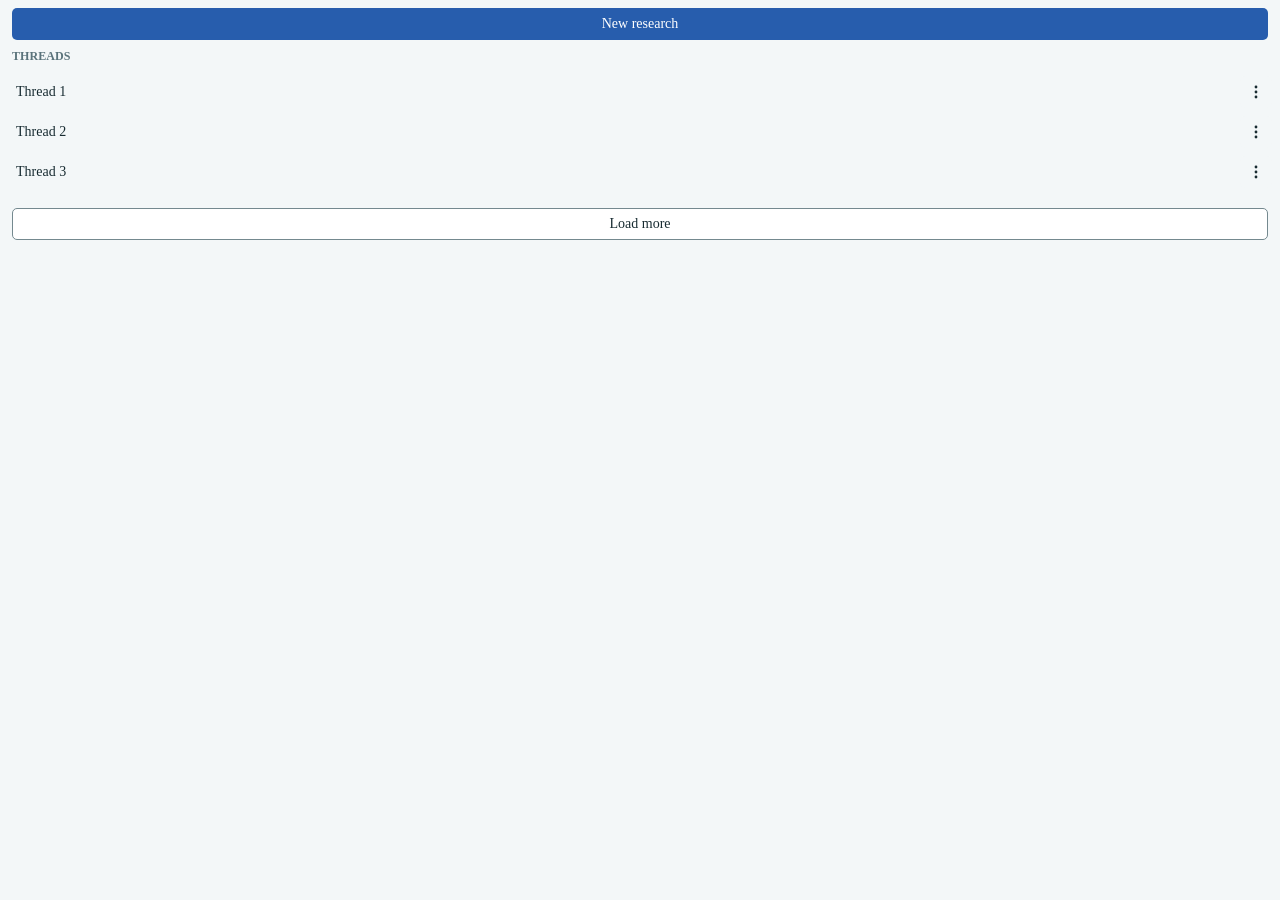
Test: criterion 3 — deletion, end to end › cancelling sends nothing
Expected: the link "Thread 1" is shown, [16, 84, 66, 99]
Click the button named "Thread actions: Thread 2": (1256, 132) [1240, 116, 1272, 148]
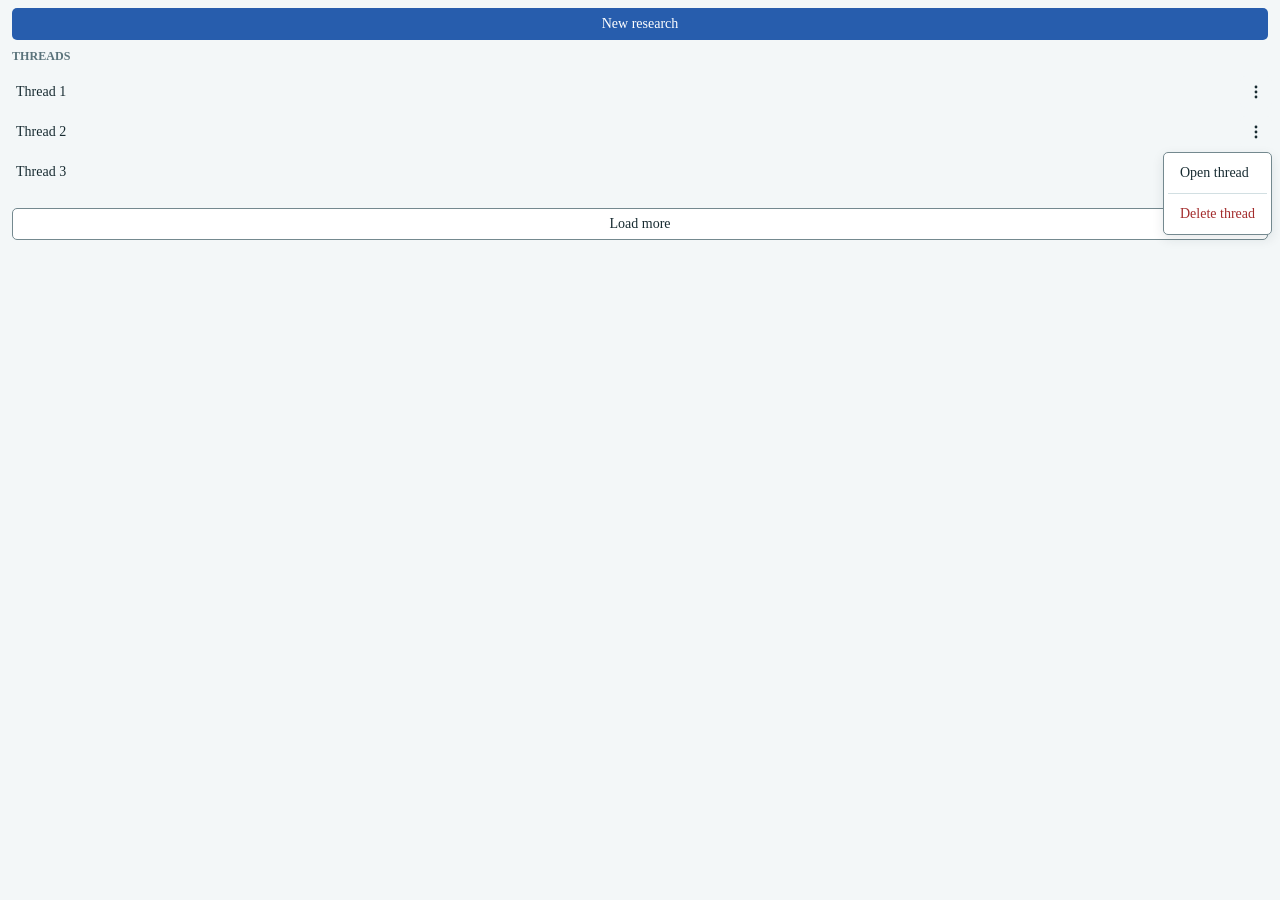
Click the menu item "Delete thread": (1218, 214) [1180, 206, 1255, 221]
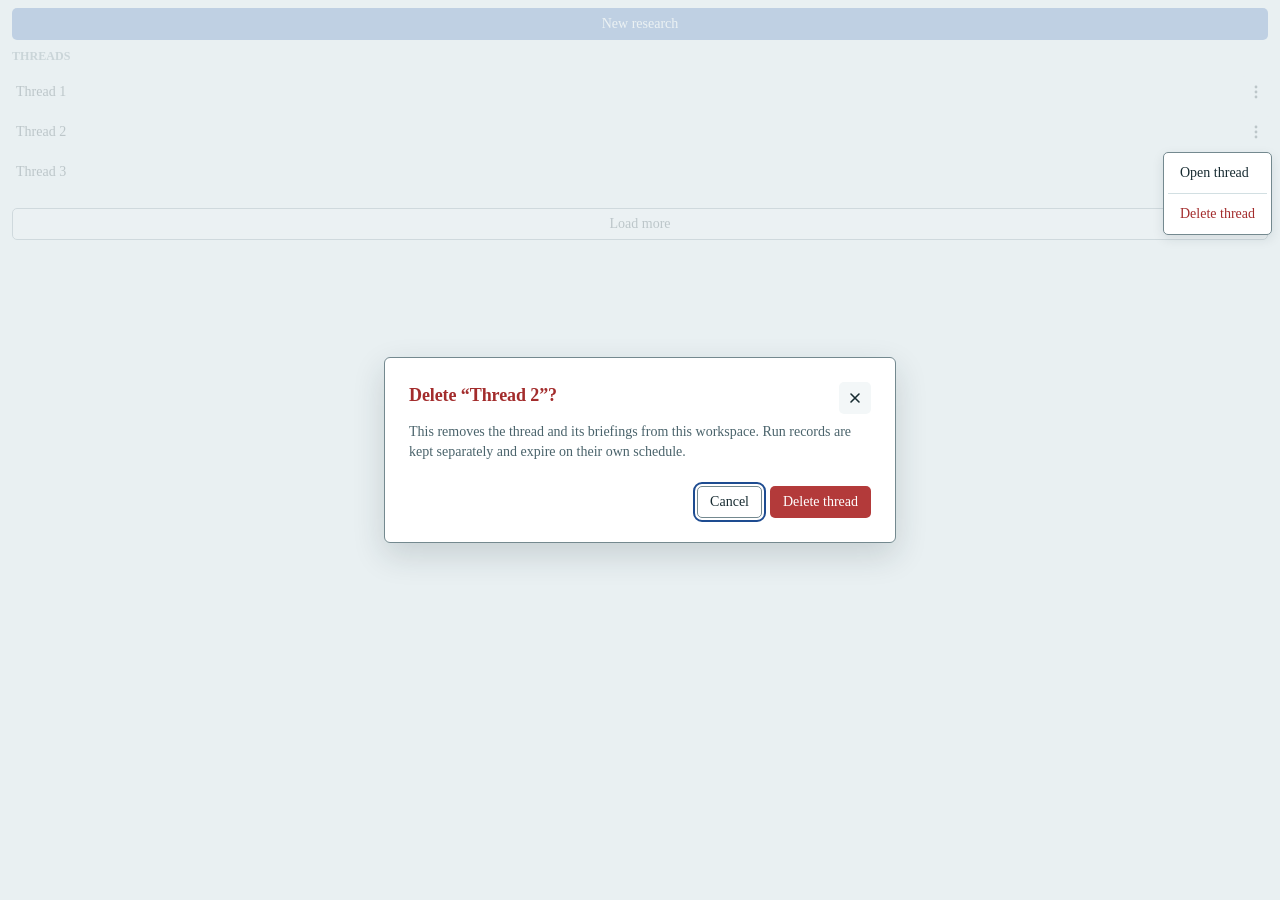
Expected: the dialog is shown, [384, 357, 896, 543]
Click the button "Cancel": (730, 502) [697, 486, 762, 518]
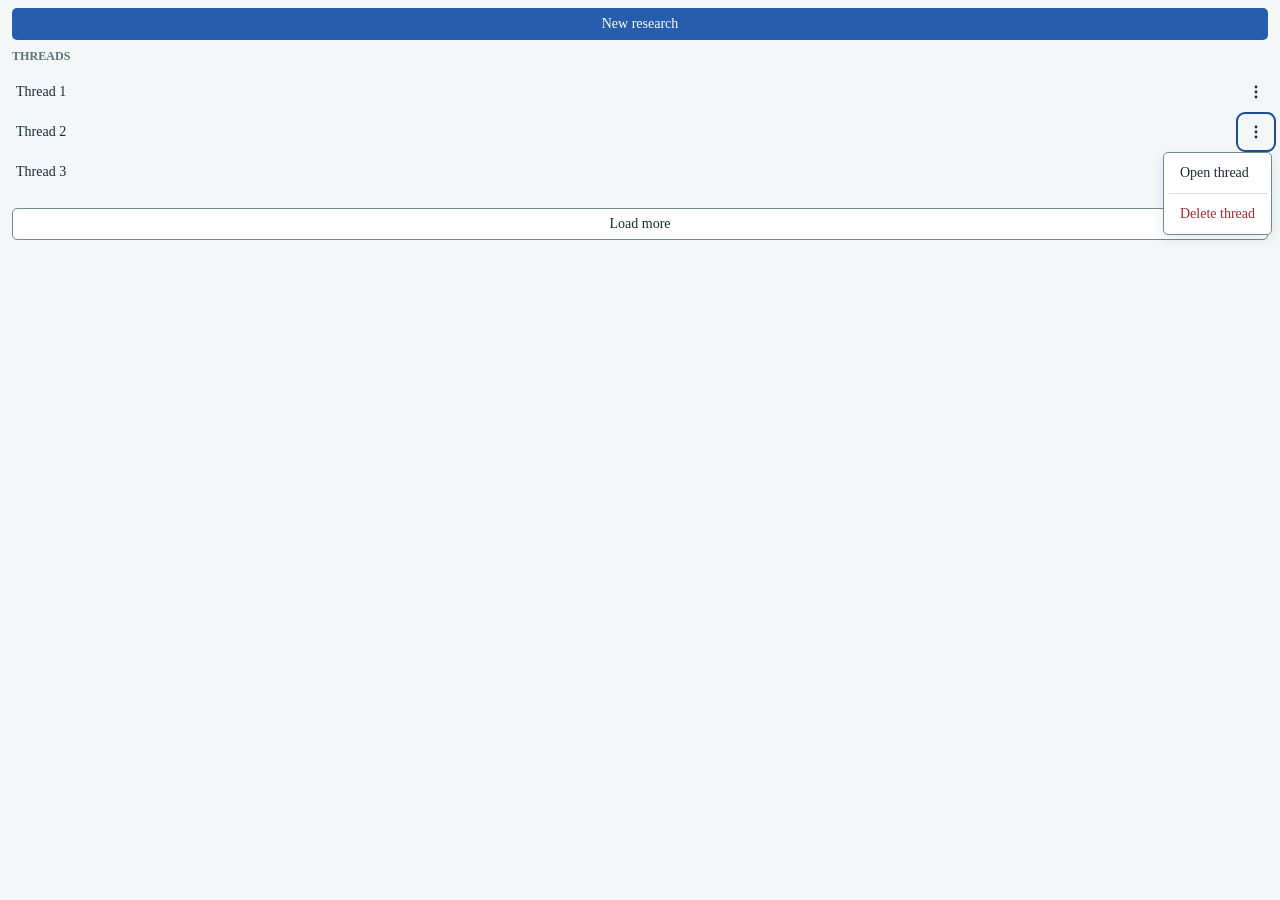
Expected: the link "Thread 2" is shown, [16, 124, 66, 139]
Expected: the dialog is gone
